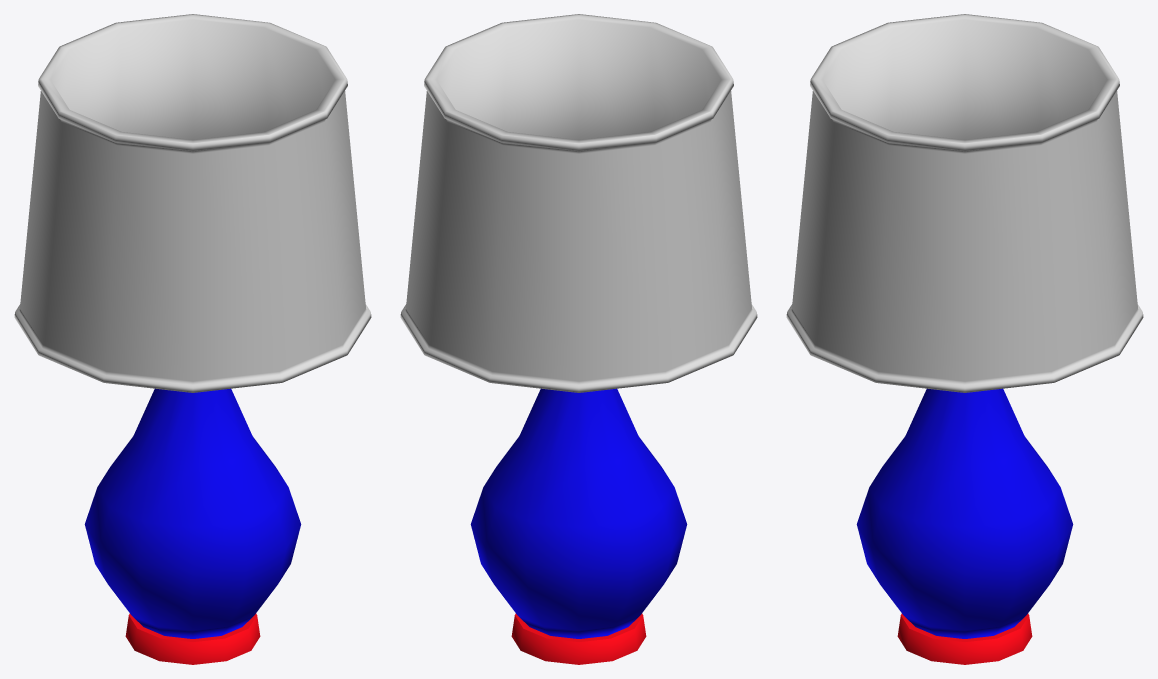
Rendered from lamp.fbx.
The picture shows the model from 3 angles, left to right: view 1: azimuth 30°, elevation 25°; view 2: azimuth 150°, elevation 25°; view 3: azimuth 270°, elevation 25°; orthographic projection.
Visible parts, largest first — view 1: Lamp Shade, Lamp Base; view 2: Lamp Shade, Lamp Base; view 3: Lamp Shade, Lamp Base.
Part boxes in pixels (x1,y1,x2,y2): Lamp Shade: [14, 14, 371, 392]; Lamp Base: [84, 388, 301, 664]; Lamp Shade: [400, 14, 757, 392]; Lamp Base: [470, 388, 687, 664]; Lamp Shade: [786, 14, 1143, 392]; Lamp Base: [856, 388, 1073, 664].
Bounding box in the file's own units: 49.47 × 85.21 × 49.47.
